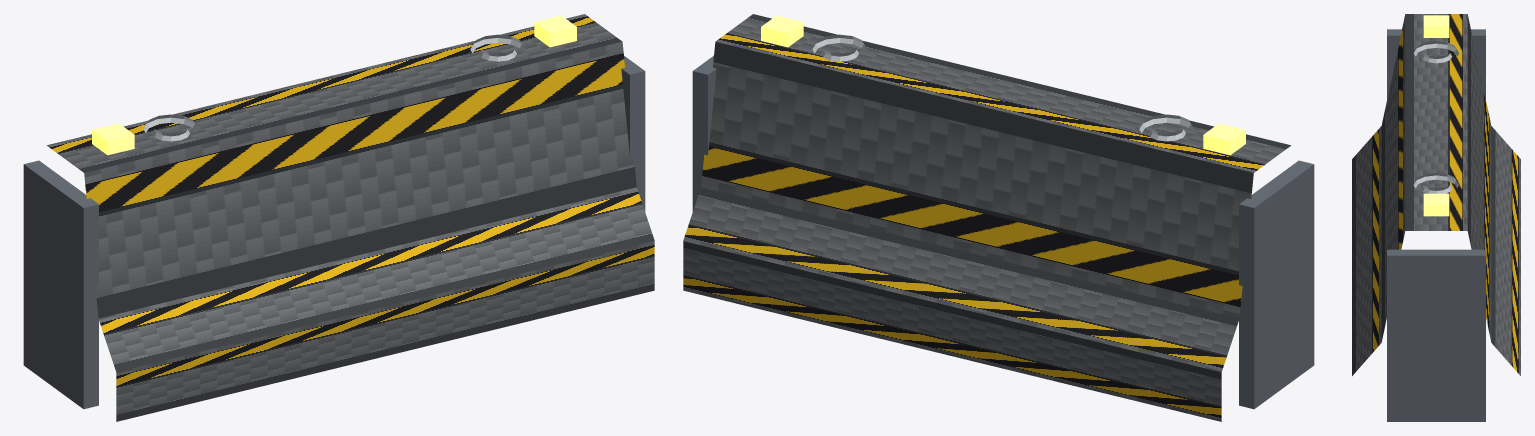
The model's file is prop_concrete_bunker_block.glb.
3 renders of one model, left to right at view 1: azimuth 30°, elevation 25°; view 2: azimuth 150°, elevation 25°; view 3: azimuth 270°, elevation 25°, orthographic. The views are drawn at different scales.
Visible parts, largest first — view 1: PropConcreteBunkerBlock; view 2: PropConcreteBunkerBlock; view 3: PropConcreteBunkerBlock.
Boxes of the visible parts, bbox=[...] form: PropConcreteBunkerBlock: bbox=[23, 14, 654, 421]; PropConcreteBunkerBlock: bbox=[683, 14, 1314, 421]; PropConcreteBunkerBlock: bbox=[1352, 14, 1520, 421].
Bounding box in the file's own units: 2.92 × 1.2 × 0.92.
4 materials, 1 textured.
